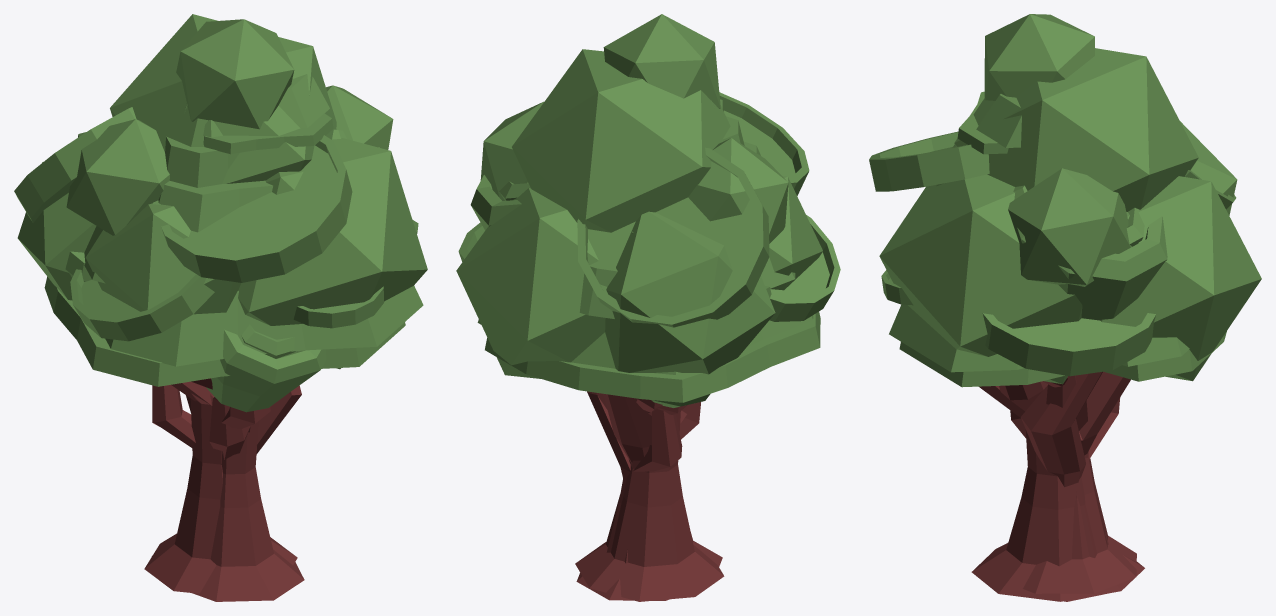
File: newtrees.gltf
3 renders of one model, left to right at view 1: azimuth 30°, elevation 25°; view 2: azimuth 150°, elevation 25°; view 3: azimuth 270°, elevation 25°, orthographic. The views are drawn at different scales.
Parts seen in each view (by area): view 1: normieLeaves, stackLeaves, plateLeaves, stackTrunk, normieTrunk, roseLeaves, roseTrunk, plateTrunk; view 2: normieLeaves, plateLeaves, normieTrunk, stackLeaves, roseTrunk, plateTrunk, roseLeaves, stackTrunk; view 3: normieLeaves, plateLeaves, stackLeaves, stackTrunk, normieTrunk, roseLeaves, roseTrunk, plateTrunk.
Boxes of the visible parts, <box> form: normieLeaves: <box>17,14,427,369</box>; stackLeaves: <box>44,74,423,386</box>; plateLeaves: <box>14,107,418,341</box>; stackTrunk: <box>151,381,304,601</box>; normieTrunk: <box>144,393,297,593</box>; roseLeaves: <box>65,129,379,412</box>; roseTrunk: <box>152,385,301,460</box>; plateTrunk: <box>186,378,271,429</box>; normieLeaves: <box>456,14,822,378</box>; plateLeaves: <box>458,92,840,327</box>; normieTrunk: <box>575,398,724,601</box>; stackLeaves: <box>477,99,820,402</box>; roseTrunk: <box>587,391,700,478</box>; plateTrunk: <box>596,393,686,463</box>; roseLeaves: <box>470,175,771,407</box>; stackTrunk: <box>576,405,722,600</box>; normieLeaves: <box>879,14,1261,384</box>; plateLeaves: <box>869,131,1236,376</box>; stackLeaves: <box>889,91,1226,387</box>; stackTrunk: <box>971,381,1144,601</box>; normieTrunk: <box>1023,451,1136,593</box>; roseLeaves: <box>1013,185,1167,320</box>; roseTrunk: <box>1010,371,1120,601</box>; plateTrunk: <box>979,371,1130,455</box>.
Size of the model in its own units: 5.94 by 9.3 by 5.91.
